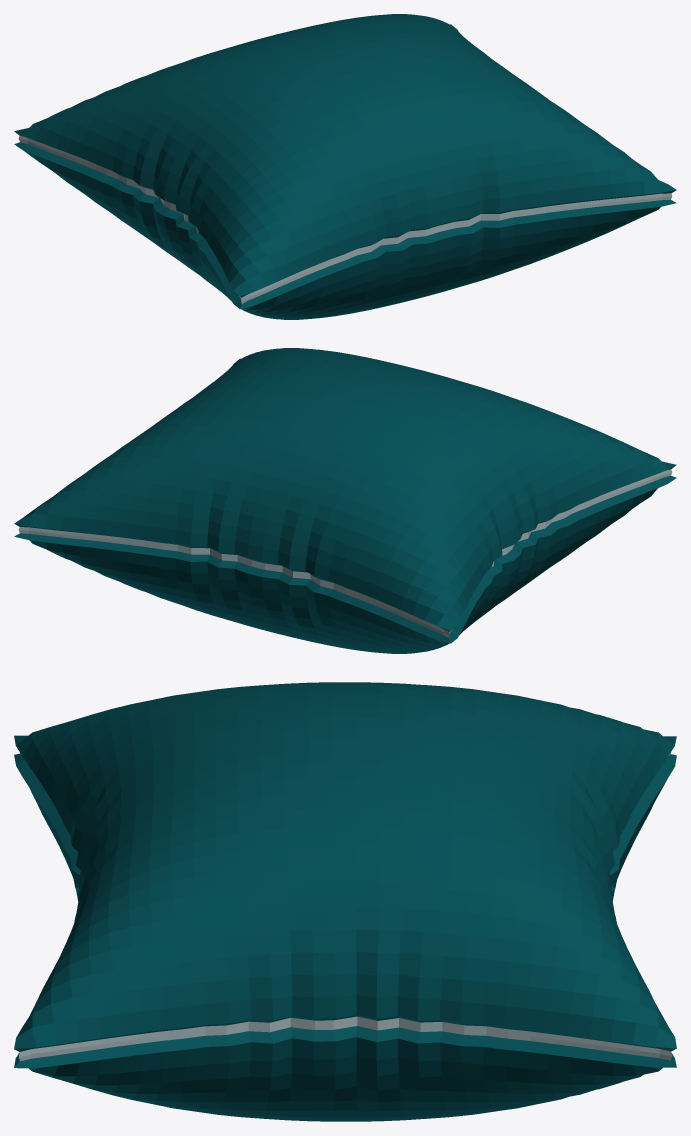
File: pillow_animation_1.glb
3 renders of one model, top to bottom at view 1: azimuth 30°, elevation 25°; view 2: azimuth 150°, elevation 25°; view 3: azimuth 270°, elevation 25°, orthographic. The views are drawn at different scales.
Parts seen in each view (by area): view 1: pillow; view 2: pillow; view 3: pillow.
Part boxes in pixels (box(x1,y1,x2,y2)): pillow: box(14, 14, 676, 319); pillow: box(14, 348, 676, 653); pillow: box(14, 682, 676, 1121).
Size of the model in its own units: 0.145 by 0.073 by 0.1299.
